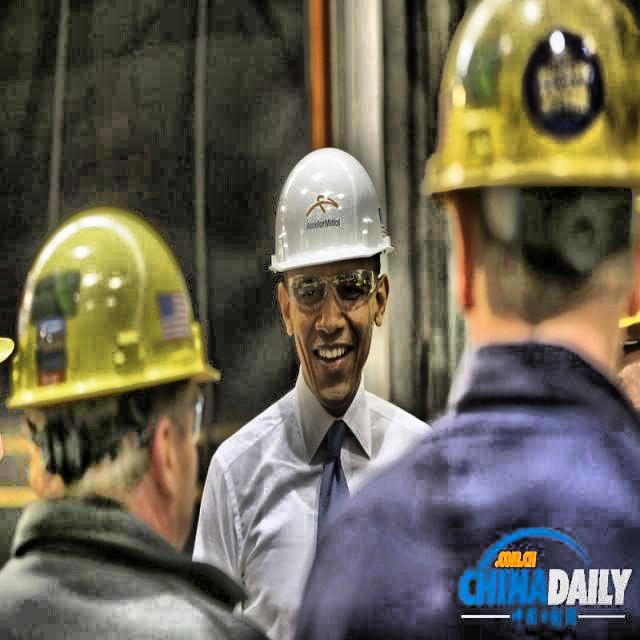person: (221, 156, 441, 604)
